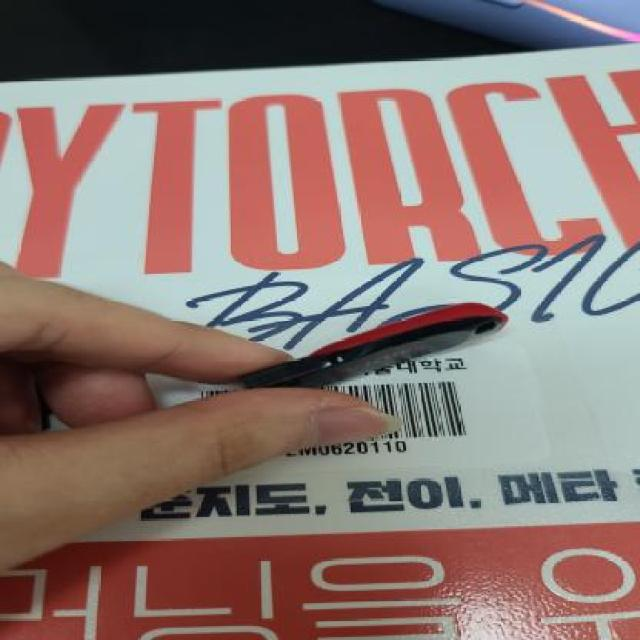Flashdisk: (238, 302, 507, 388)
